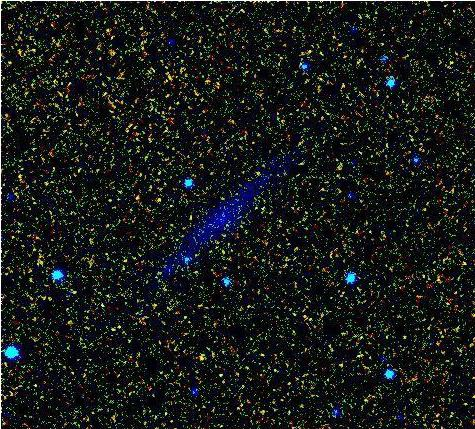star: (168, 247, 198, 277)
